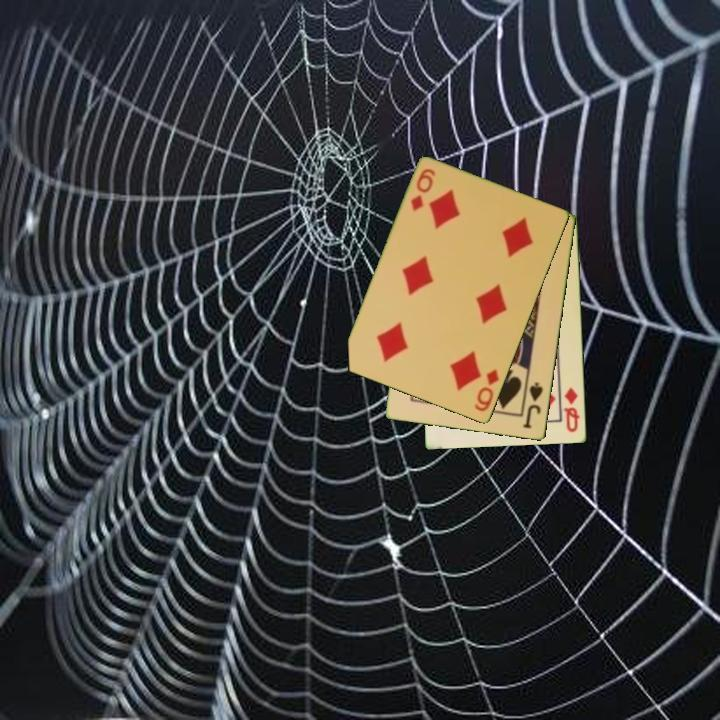6d: (471, 365, 502, 415), (407, 165, 438, 214)
Js: (520, 379, 546, 432)
Qd: (561, 384, 583, 435)
